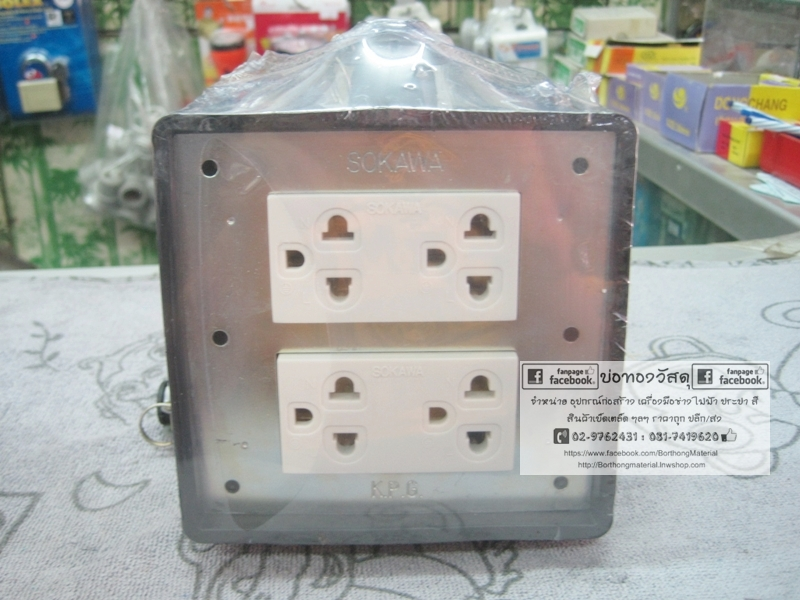Three_eye_plug: (145, 97, 624, 552)
